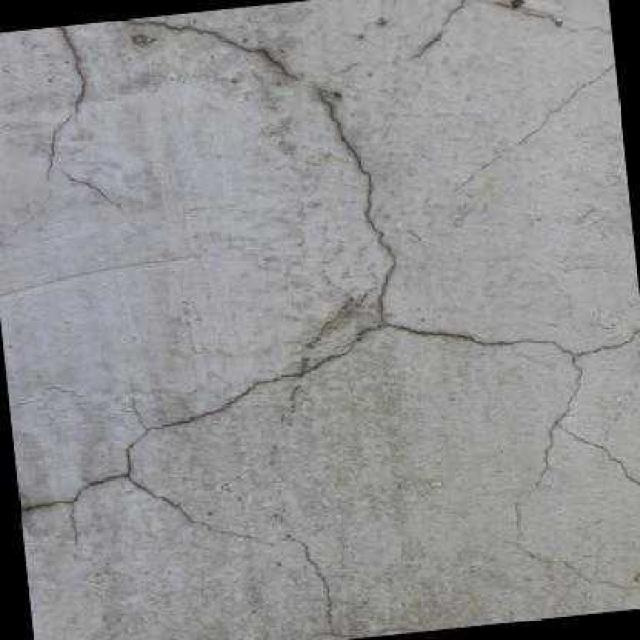D00: (19, 0, 640, 592), (446, 59, 612, 197), (38, 27, 89, 181), (285, 534, 339, 624), (56, 166, 123, 211)
